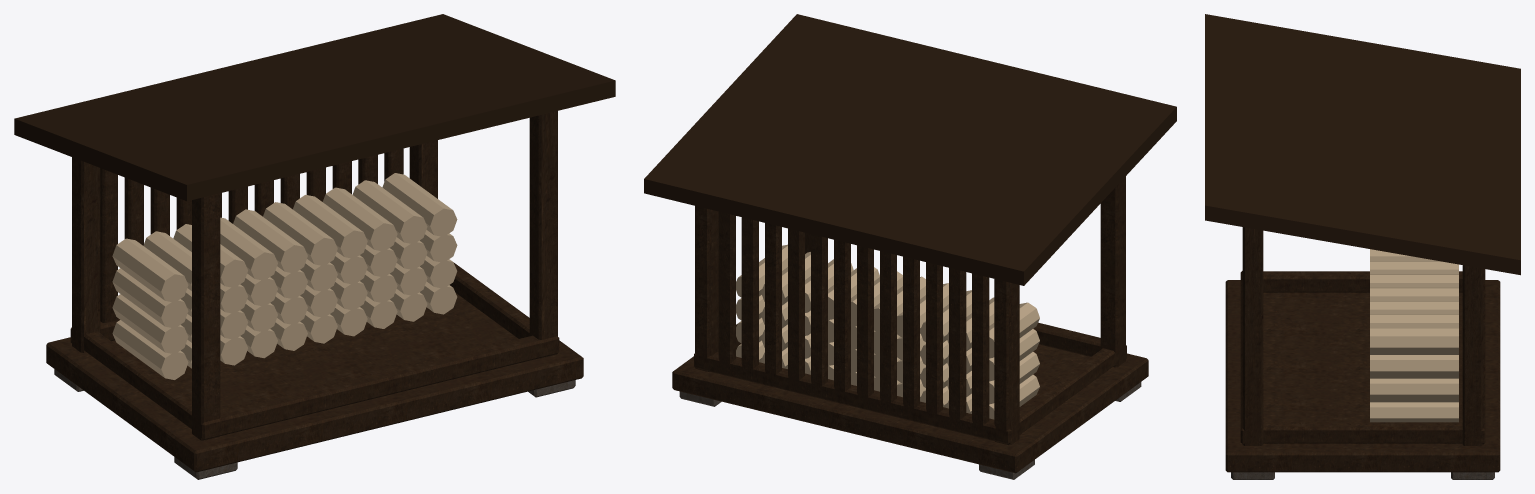
Rendered from s_wood_shelter.glb.
The picture shows the model from 3 angles, left to right: view 1: azimuth 30°, elevation 25°; view 2: azimuth 150°, elevation 25°; view 3: azimuth 270°, elevation 25°; orthographic projection. The views are drawn at different scales.
Visible parts, largest first — view 1: raised floor, split billet, post-colonly.002, post-colonly.001, stone foot, post-colonly.003; view 2: raised floor, split billet, stone foot, post-colonly.001, post-colonly.003; view 3: raised floor, split billet, post-colonly.002, post-colonly.003, stone foot.
Part boxes in pixels (box(x1,y1,x2,y2)): raised floor: box(14, 14, 615, 472); split billet: box(112, 173, 457, 379); post-colonly.002: box(538, 111, 557, 358); post-colonly.001: box(81, 160, 99, 352); stone foot: box(54, 369, 575, 479); post-colonly.003: box(416, 140, 437, 198); raised floor: box(644, 14, 1176, 473); split billet: box(736, 244, 1039, 419); stone foot: box(679, 382, 1141, 479); post-colonly.001: box(994, 279, 1014, 445); post-colonly.003: box(695, 206, 718, 371); raised floor: box(1205, 14, 1520, 472); split billet: box(1370, 249, 1458, 422); post-colonly.002: box(1242, 227, 1263, 445); post-colonly.003: box(1462, 265, 1483, 445); stone foot: box(1231, 472, 1494, 479).
Size of what is drawn, in the model's own units: 3.3 by 2.3 by 2.3.
Materials: 3 (2 with a texture image).
